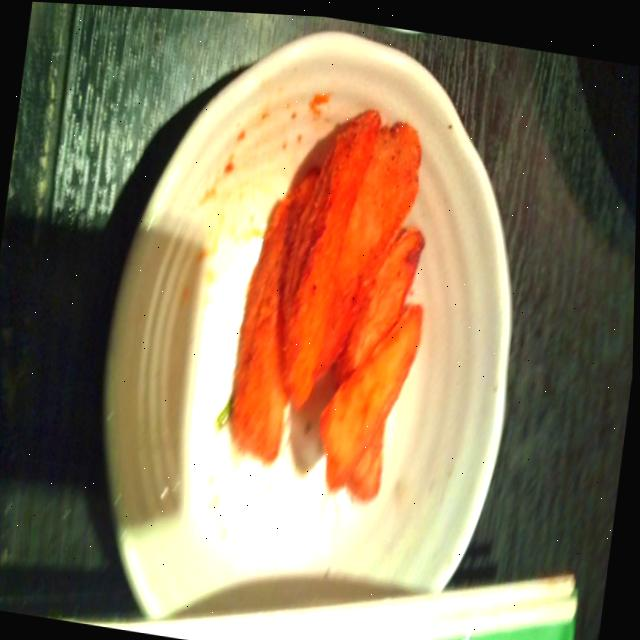炸货点心: (227, 87, 444, 500)
